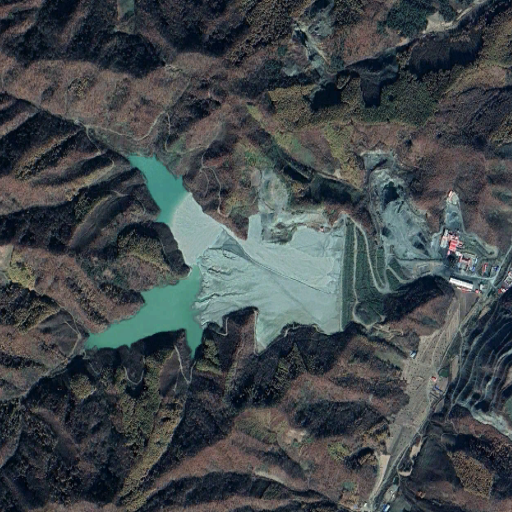tp: (83, 141, 408, 353)
